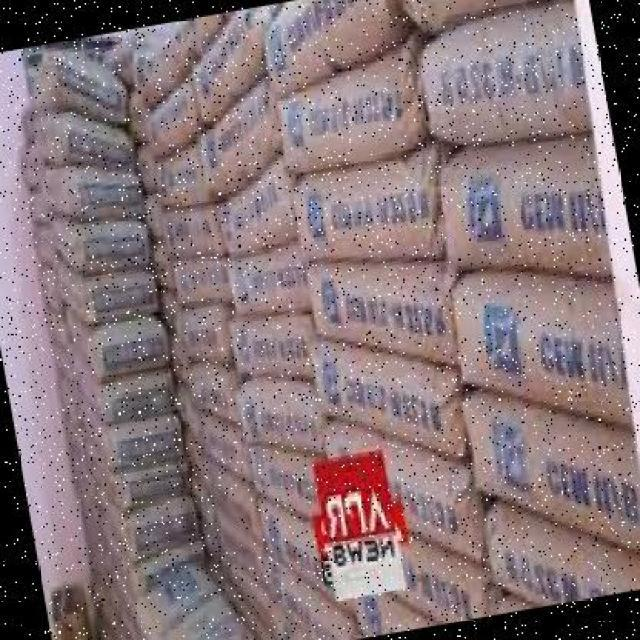gunny_bag: (448, 273, 632, 433), (461, 396, 640, 554), (418, 0, 592, 145), (323, 418, 486, 570), (443, 136, 609, 275), (274, 43, 434, 174), (294, 134, 445, 267), (487, 499, 640, 607), (316, 342, 465, 451), (306, 261, 456, 363), (261, 0, 415, 94), (93, 504, 204, 596), (199, 80, 279, 202), (130, 562, 251, 640), (383, 539, 495, 623), (263, 539, 356, 640), (190, 7, 269, 124), (63, 299, 169, 386), (95, 474, 196, 564), (134, 12, 222, 115), (73, 344, 179, 425), (217, 156, 297, 259), (82, 432, 187, 510), (59, 254, 159, 333), (77, 394, 183, 468), (48, 207, 154, 275), (228, 236, 311, 322), (200, 551, 280, 640), (256, 494, 323, 599), (397, 0, 570, 37), (42, 160, 139, 224), (239, 379, 323, 449), (35, 104, 133, 163), (229, 312, 316, 378), (212, 505, 271, 595), (54, 54, 125, 127), (251, 446, 319, 522), (206, 457, 260, 537), (233, 566, 290, 640), (162, 198, 224, 263), (150, 78, 198, 160), (350, 593, 439, 637), (153, 144, 212, 209), (201, 411, 252, 480), (170, 252, 233, 306), (178, 305, 234, 363), (193, 359, 240, 421), (181, 428, 212, 500), (173, 375, 200, 447), (186, 473, 216, 533), (166, 334, 192, 392), (151, 238, 176, 292), (135, 141, 159, 195), (140, 189, 165, 237), (116, 50, 140, 92), (128, 112, 153, 151), (499, 590, 534, 613), (157, 296, 178, 334), (197, 516, 217, 555), (125, 89, 148, 121), (289, 620, 309, 640)
